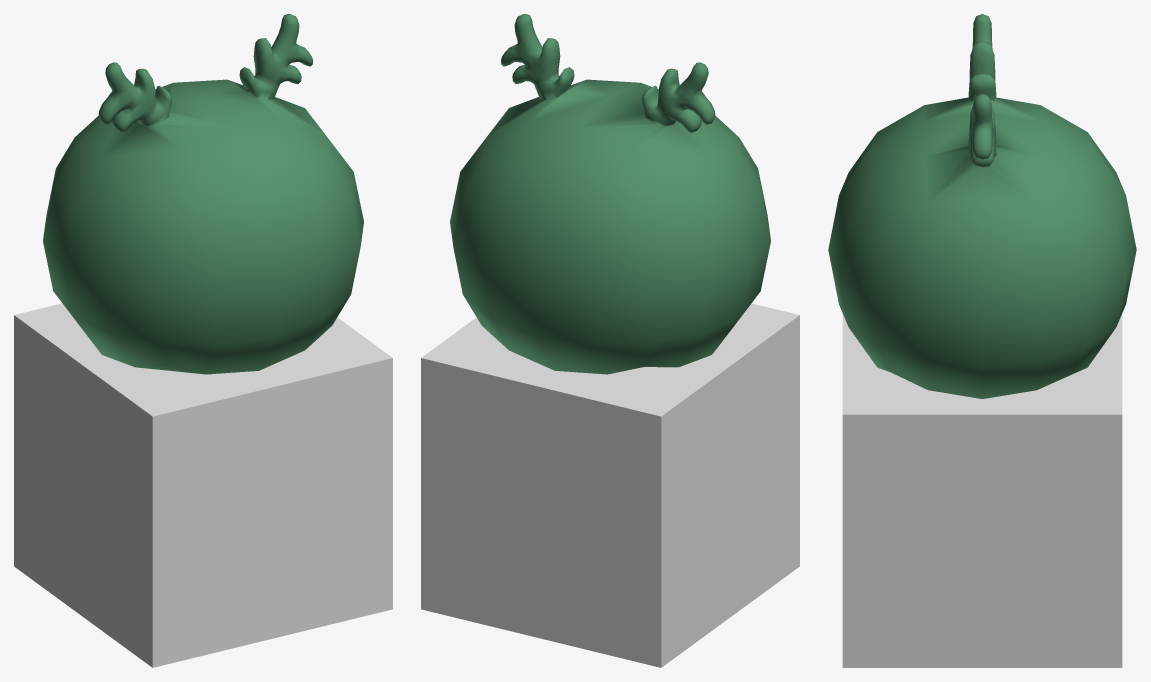
Rendered from fungusss.fbx.
3 views of the same model, side by side, from view 1: azimuth 30°, elevation 25°; view 2: azimuth 150°, elevation 25°; view 3: azimuth 270°, elevation 25° (orthographic).
Visible parts, largest first — view 1: Cube.003, Cube; view 2: Cube.003, Cube; view 3: Cube.003, Cube.
Part boxes in pixels (x1,y1,x2,y2): Cube.003: (14,303,392,667); Cube: (43,14,363,374); Cube.003: (421,303,799,667); Cube: (450,14,770,374); Cube.003: (842,314,1122,667); Cube: (828,14,1136,398).
Bounding box in the file's own units: 233 × 440 × 221.
Materials: 1 (1 with a texture image).
